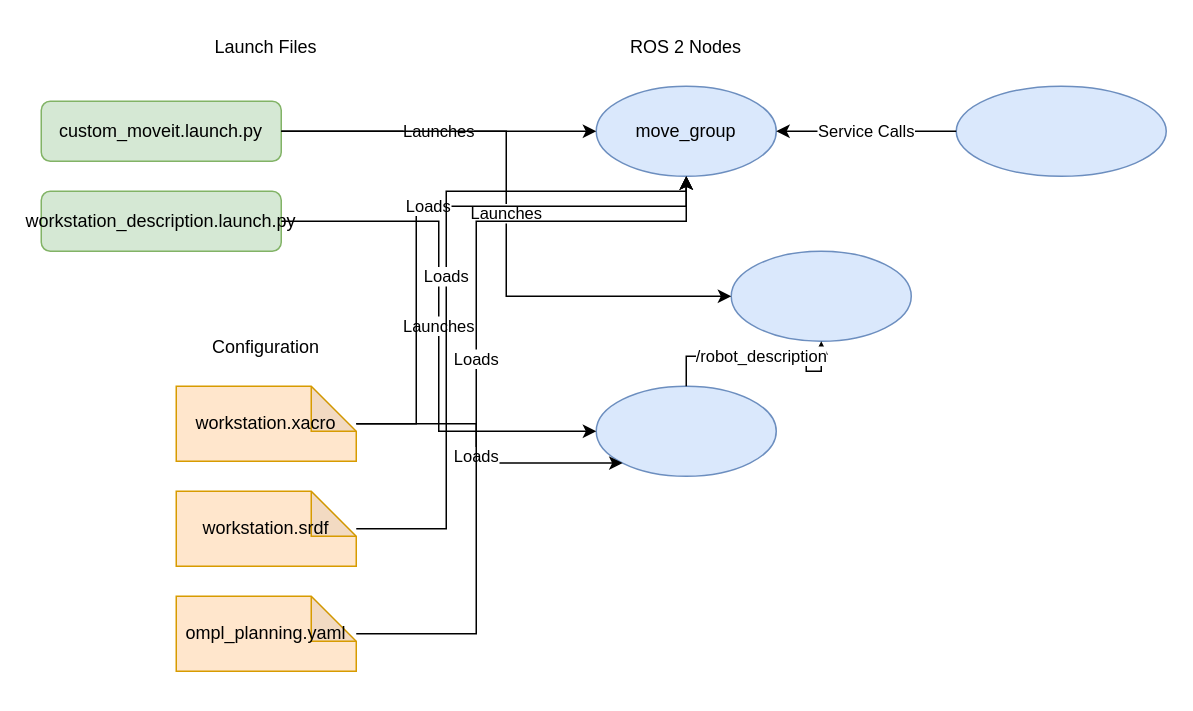
Image size: 1193x711. Some labels were removed from this diagram. Here are the shapes that lost their labels. From the top down, the centre of each, then its label:
(x=1060, y=130): cartesian_path_follower
(x=820, y=295): rviz2
(x=685, y=430): robot_state_publisher
